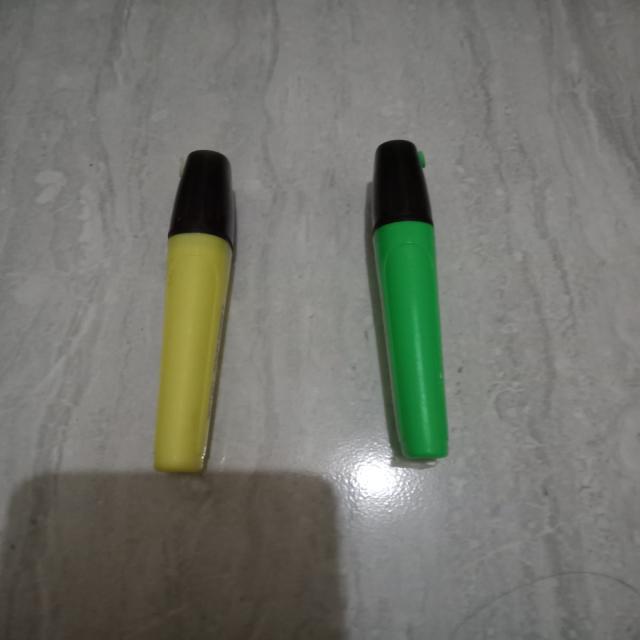highlighter: (93, 100, 558, 494)
